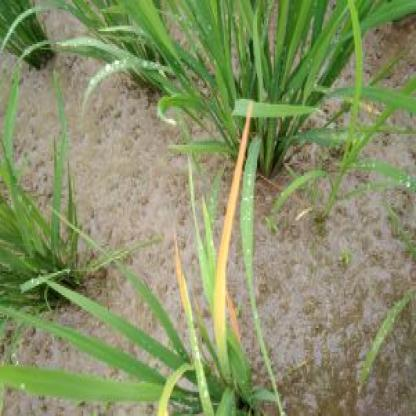Tungro: (211, 108, 254, 360)
